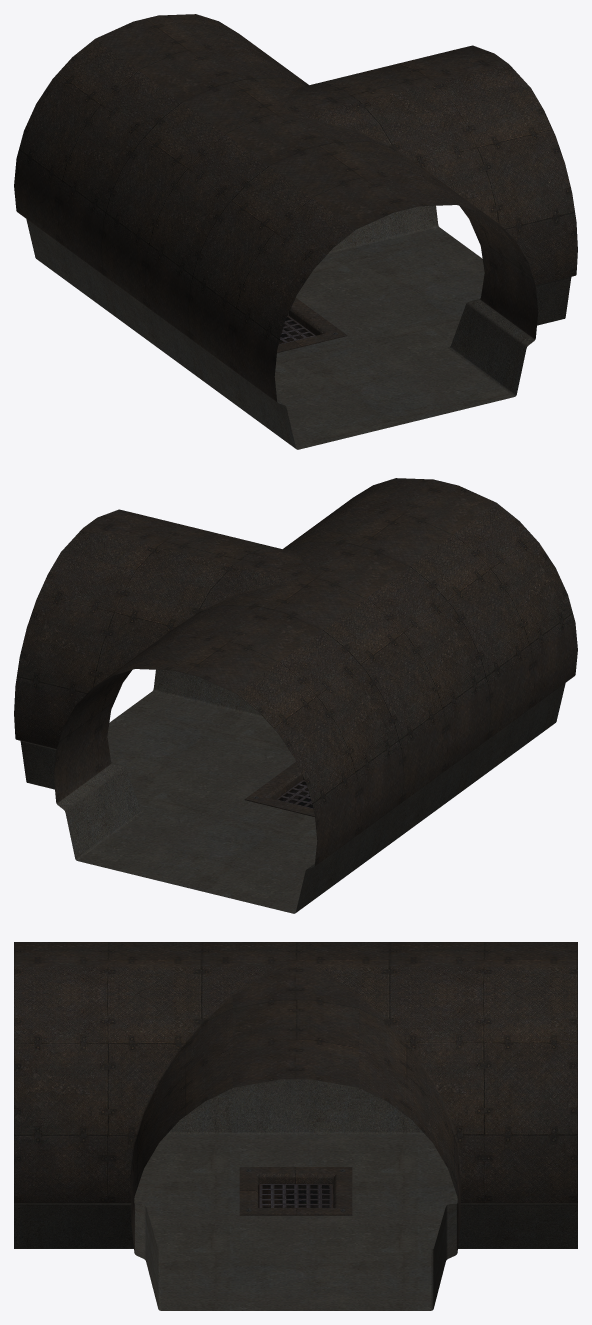
Rendered from tunnel_junction_three_way.obj.
The picture shows the model from 3 angles, top to bottom: view 1: azimuth 30°, elevation 25°; view 2: azimuth 150°, elevation 25°; view 3: azimuth 270°, elevation 25°; orthographic projection. The views are drawn at different scales.
Visible parts, largest first — view 1: tunnel_junction_three_way; view 2: tunnel_junction_three_way; view 3: tunnel_junction_three_way.
Boxes of the visible parts, x1,y1,x2,y2 form: tunnel_junction_three_way: (14, 14, 577, 449); tunnel_junction_three_way: (14, 478, 577, 913); tunnel_junction_three_way: (14, 942, 577, 1310).
Size of the model in its own units: 4.75 by 2.82 by 6.
